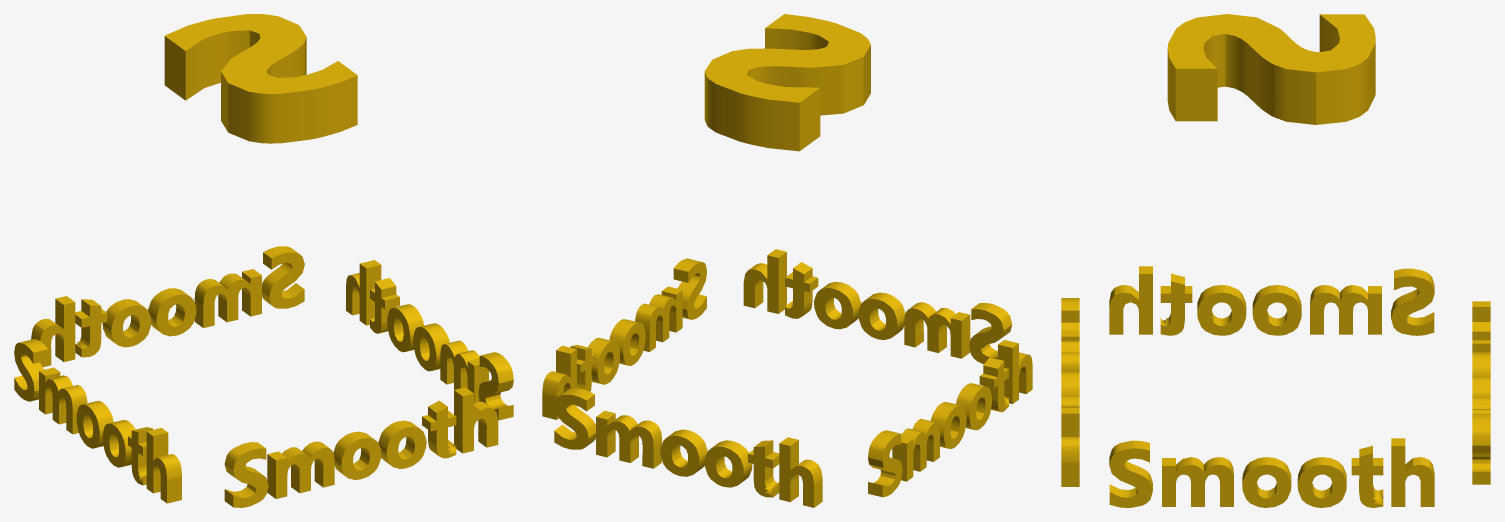
File: ModeSmooth.fbx
3 renders of one model, left to right at view 1: azimuth 30°, elevation 25°; view 2: azimuth 150°, elevation 25°; view 3: azimuth 270°, elevation 25°, orthographic. The views are drawn at different scales.
Parts seen in each view (by area): view 1: Trim_Char_S_2_1, curve70, curve79, curve78, curve81; view 2: Trim_Char_S_2_1, curve79, curve70, curve78, curve81; view 3: Trim_Char_S_2_1, curve81, curve78, curve70, curve79.
Part boxes in pixels (box(x1,y1,x2,y2)): Trim_Char_S_2_1: box(164, 14, 357, 143); curve70: box(224, 387, 498, 507); curve79: box(31, 246, 304, 367); curve78: box(14, 339, 181, 503); curve81: box(346, 260, 513, 420); Trim_Char_S_2_1: box(704, 14, 870, 151); curve79: box(554, 388, 822, 507); curve70: box(743, 249, 1012, 364); curve78: box(868, 340, 1032, 497); curve81: box(542, 258, 706, 419); Trim_Char_S_2_1: box(1167, 14, 1375, 124); curve81: box(1109, 438, 1434, 507); curve78: box(1109, 266, 1434, 335); curve70: box(1061, 298, 1079, 486); curve79: box(1472, 301, 1490, 484).
Bounding box in the file's own units: 0.8537 × 0.829 × 0.8613.
